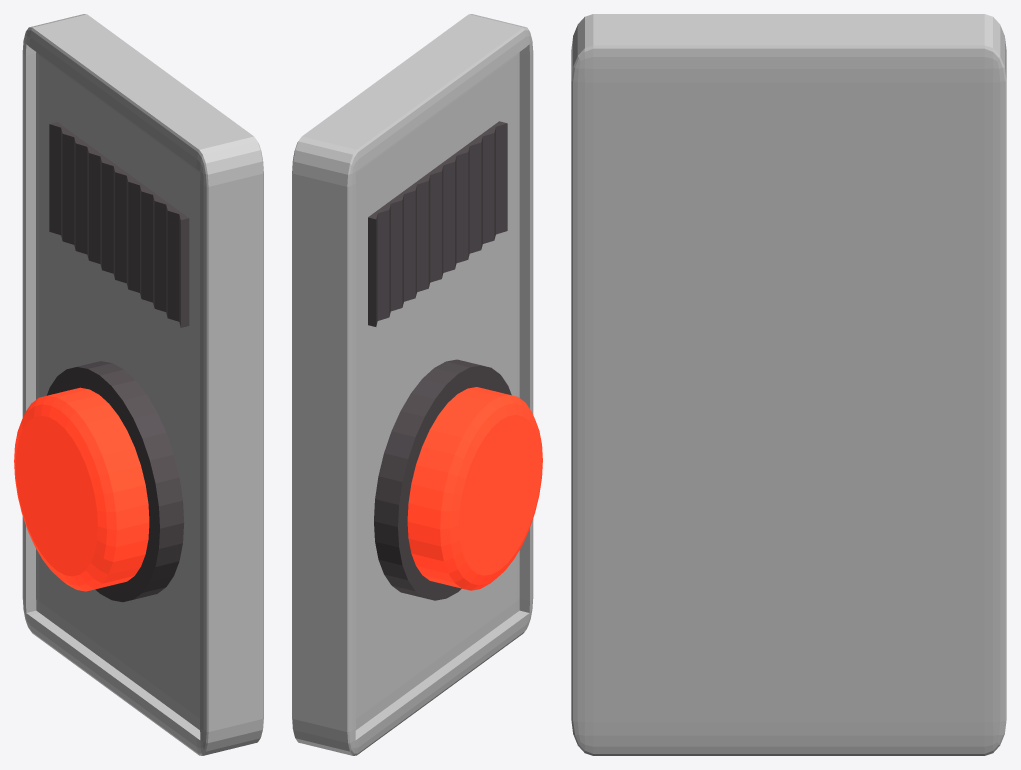
The model's file is thebutton.fbx.
3 renders of one model, left to right at view 1: azimuth 30°, elevation 25°; view 2: azimuth 150°, elevation 25°; view 3: azimuth 270°, elevation 25°, orthographic. The views are drawn at different scales.
Visible parts, largest first — view 1: Cube, Circle, Cube.001, Circle.001; view 2: Cube, Circle, Cube.001, Circle.001; view 3: Cube.
Part boxes in pixels (x1,y1,x2,y2): Cube: (22,14,263,755); Circle: (14,387,149,591); Cube.001: (49,122,189,327); Circle.001: (47,361,184,602); Cube: (292,14,533,755); Circle: (407,387,542,590); Cube.001: (368,121,507,326); Circle.001: (374,359,511,600); Cube: (571,14,1006,755).
Size of the model in its own units: 0.2202 by 1.08 by 0.6019.
